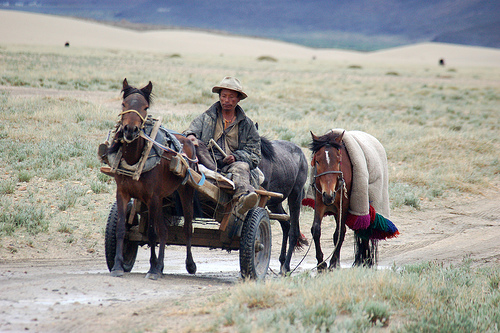horse: (99, 83, 202, 281), (308, 128, 398, 272), (248, 121, 312, 279)
